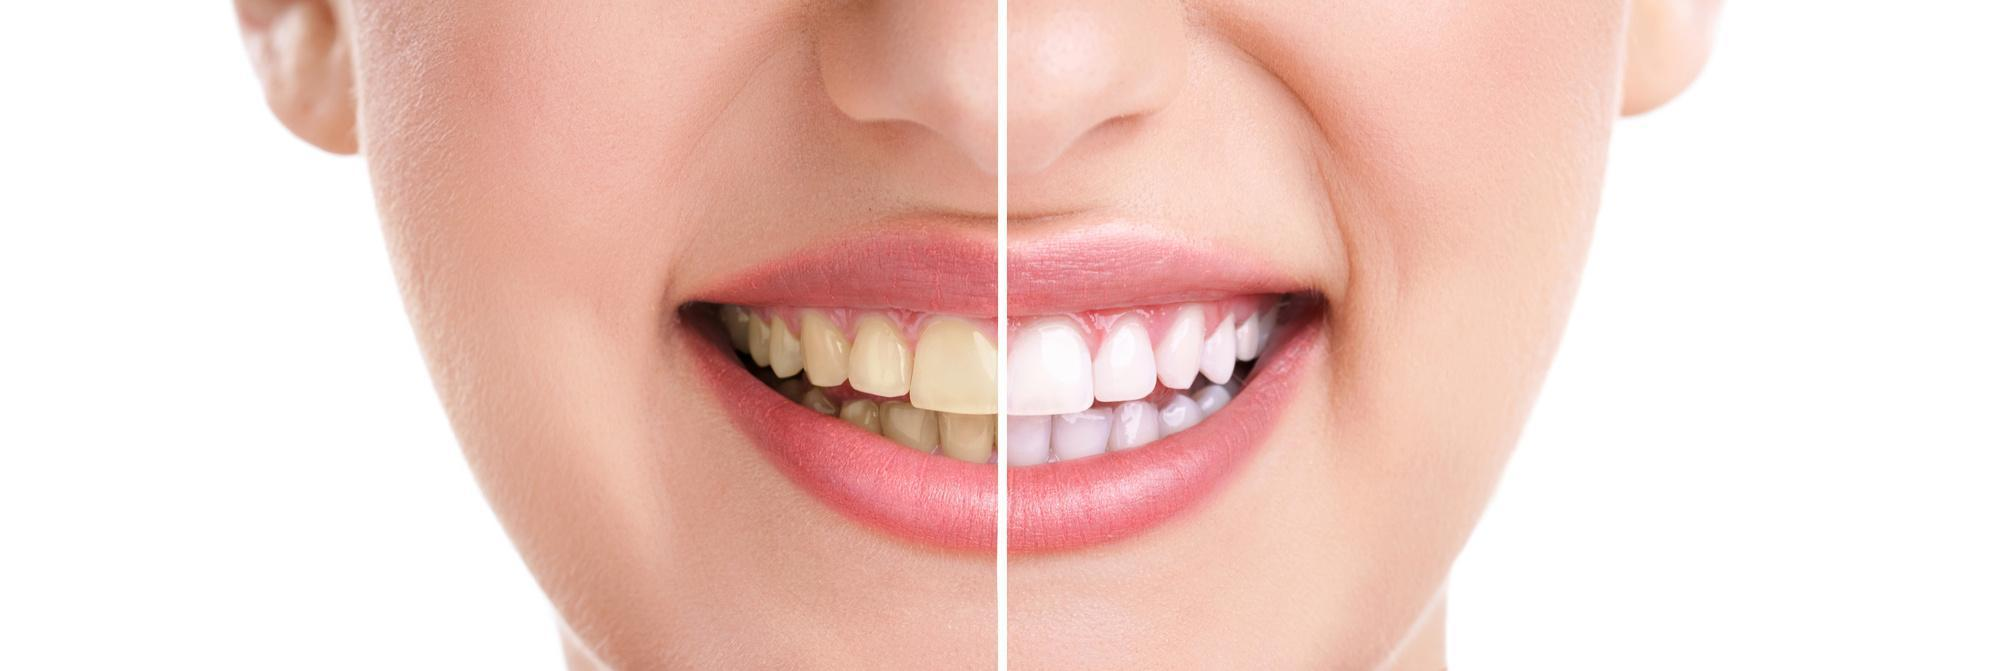cavity: (906, 309, 1004, 413), (849, 306, 918, 399), (793, 301, 857, 388), (878, 402, 946, 455), (940, 411, 997, 467), (765, 310, 804, 381), (744, 306, 776, 371), (838, 398, 886, 440), (795, 387, 844, 421), (724, 304, 754, 357)
normal: (1003, 313, 1101, 421), (1092, 313, 1163, 401), (1147, 302, 1213, 393), (1196, 305, 1246, 389), (1048, 404, 1119, 463), (1003, 409, 1056, 472), (1105, 399, 1168, 452), (1156, 395, 1216, 439), (1233, 305, 1267, 364), (1256, 299, 1286, 348), (1195, 384, 1245, 413)
